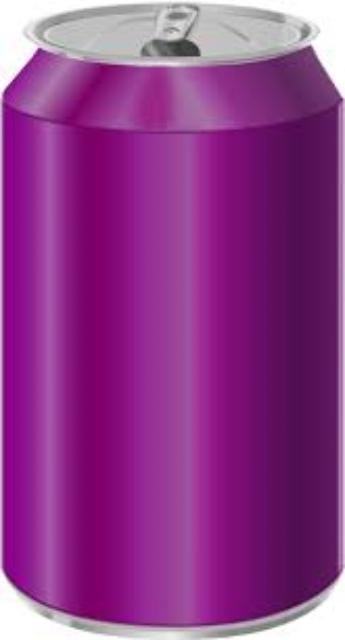metal: (4, 2, 343, 632)
